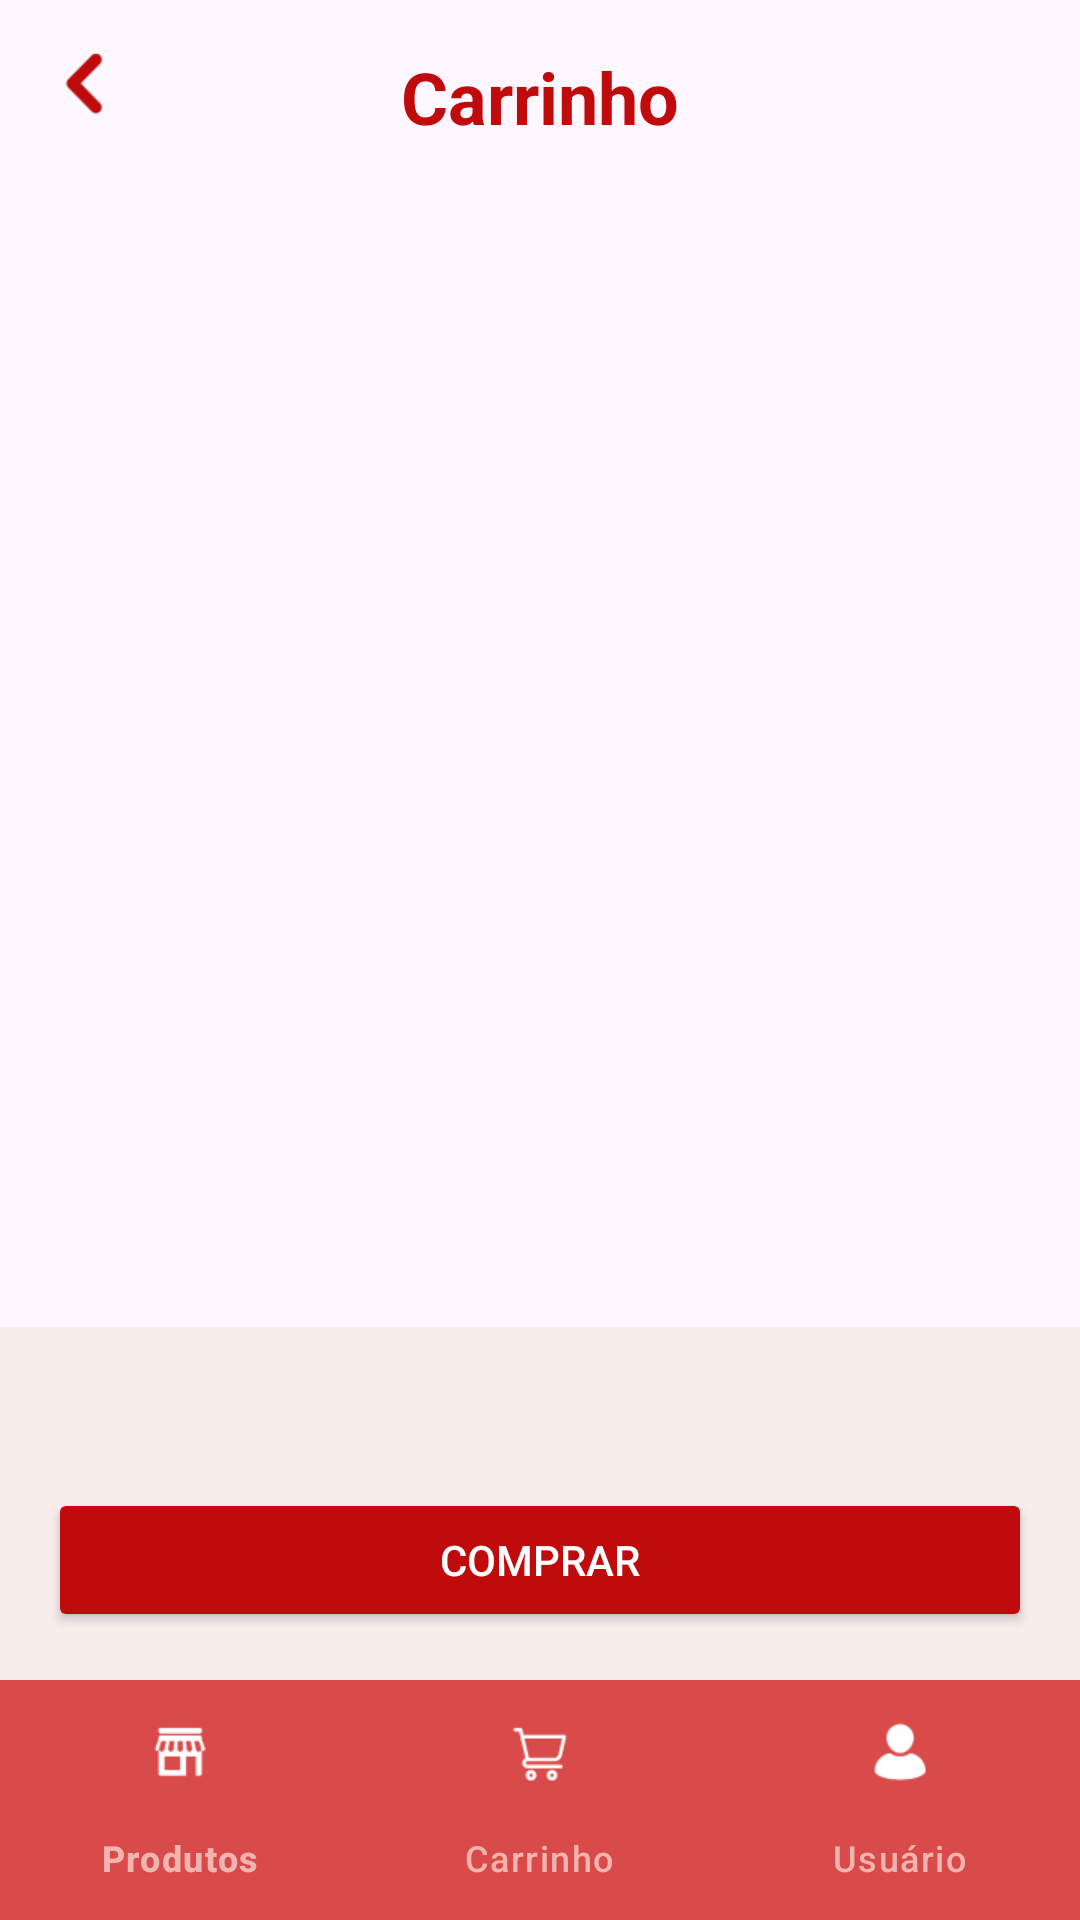

Where icons sit on this 1080 x 1920 app screen, as bbox=[x1, y1, x2, y2]:
Voltar: bbox=[66, 53, 103, 114]
